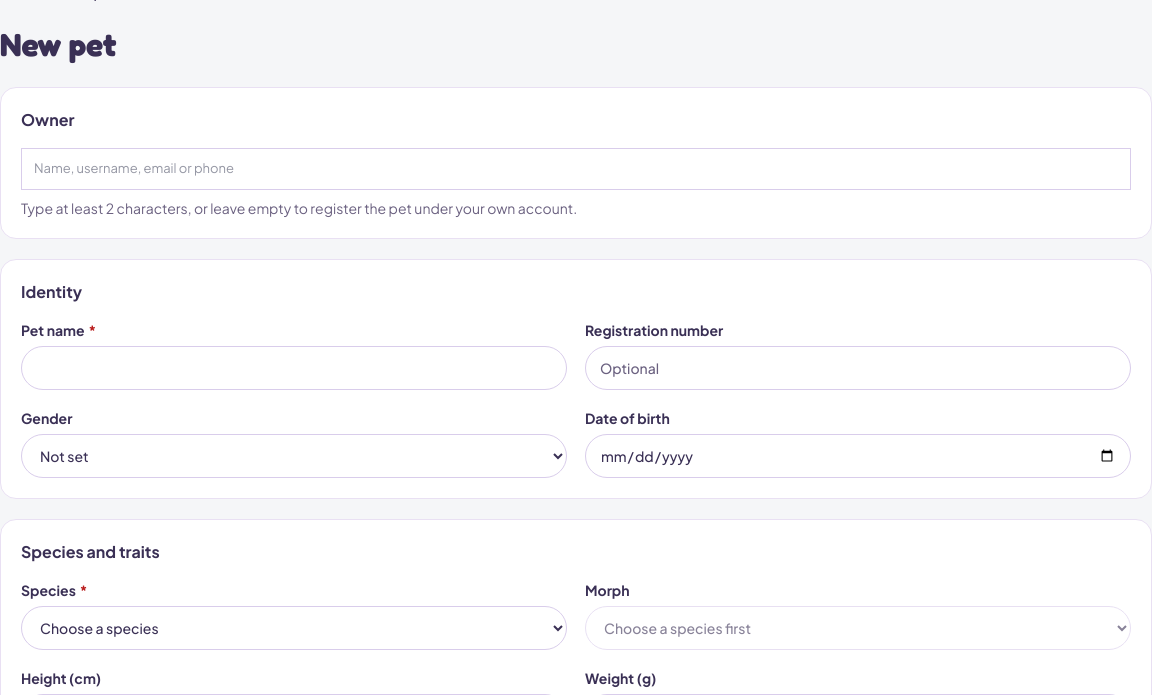
Test: PetCreatePage › puts a server 422 on the field it belongs to
This screenshot has width=1152, height=695.
Step 1. Type "Pico" into the field labelled "Pet name*" → [294, 368], box 21,346 -> 567,390
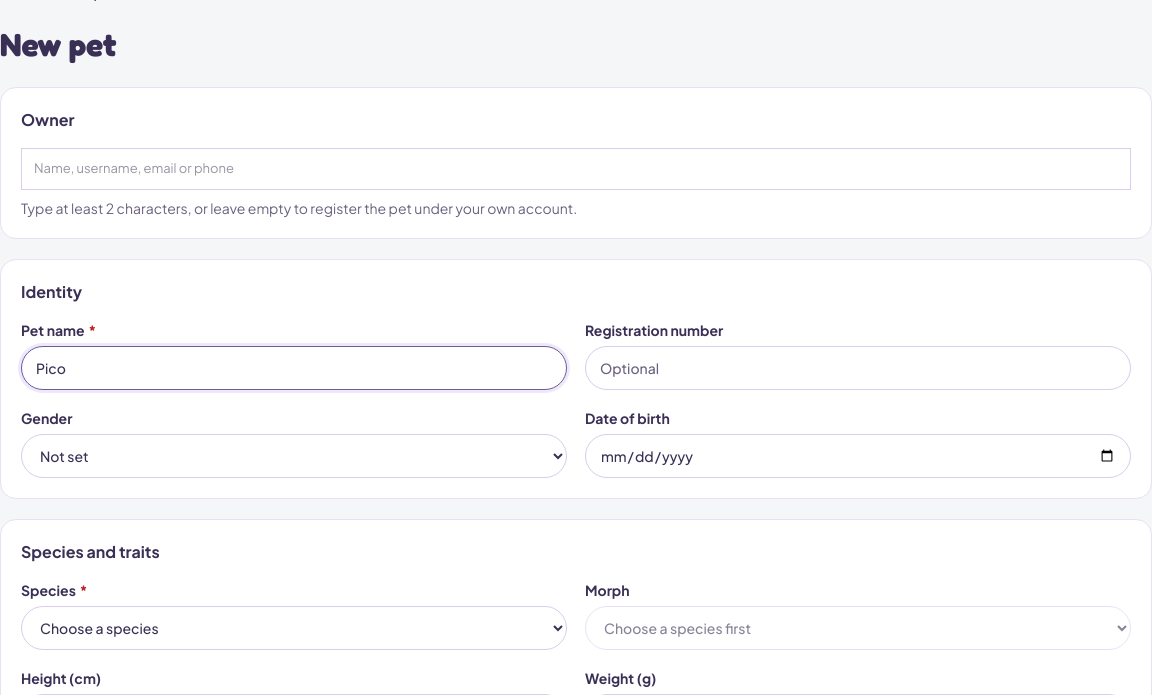
Step 2. Select "Sugar Glider" in the dropdown labelled "Species*" → [294, 628], box 21,606 -> 567,650
(page scrolled)
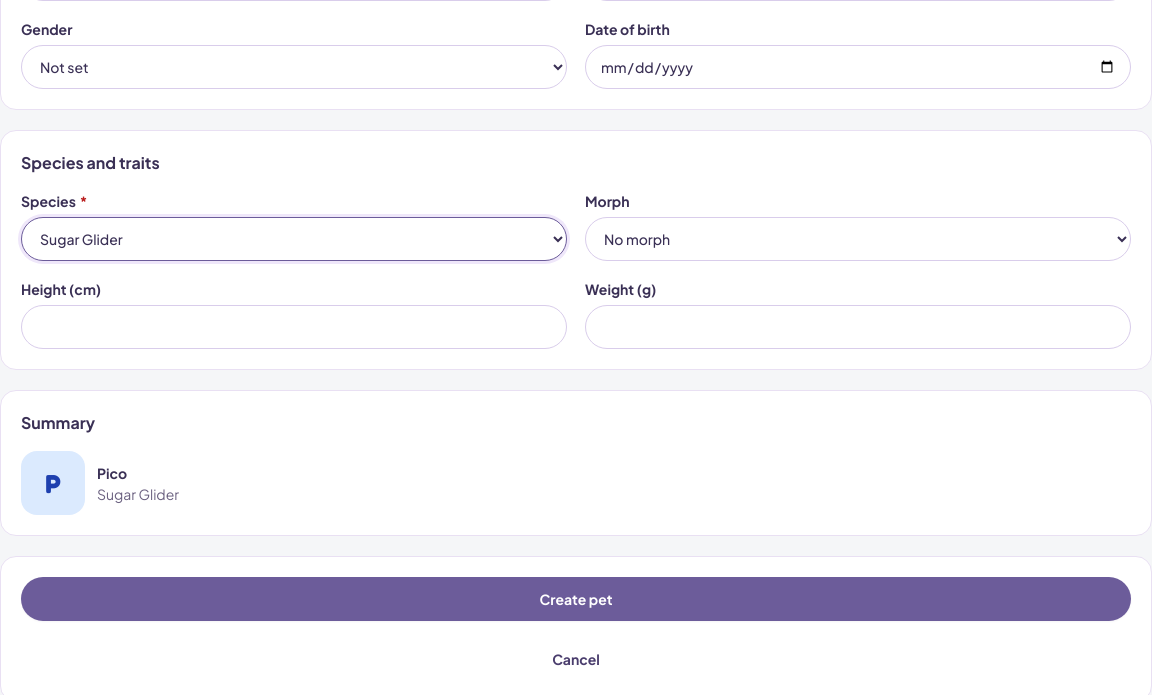
Step 3. Click the button "Create pet" → [576, 599], box 21,577 -> 1131,621
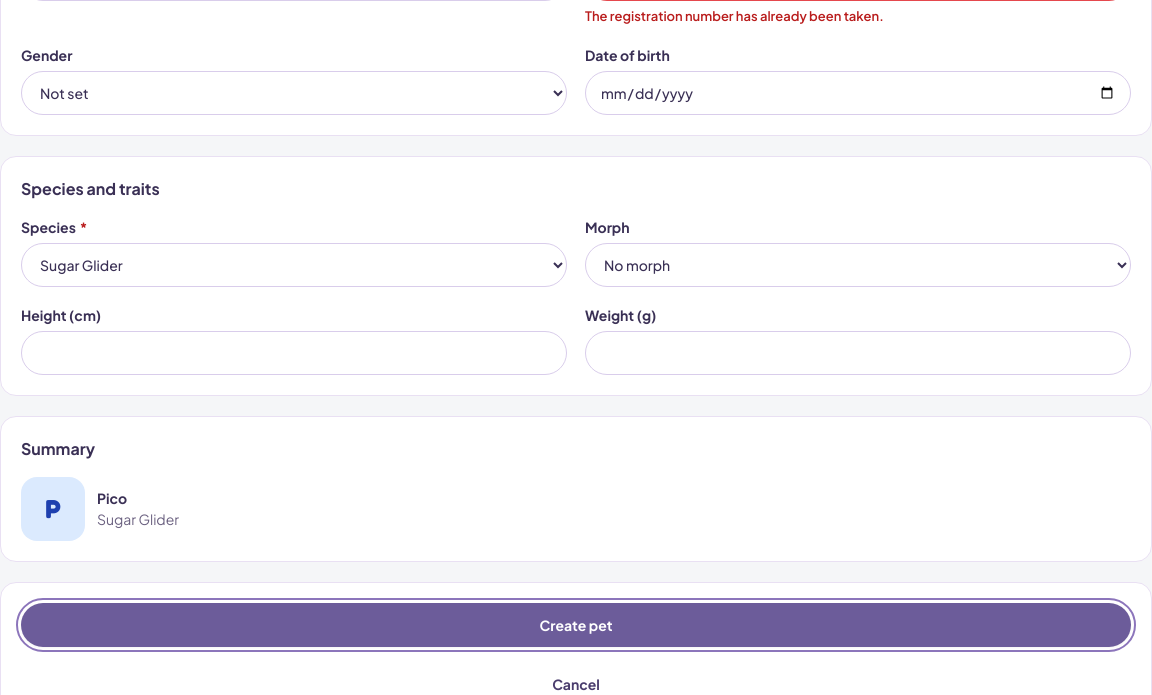
Result: the text "The registration number has already been taken." is shown at 585,8 -> 884,24
